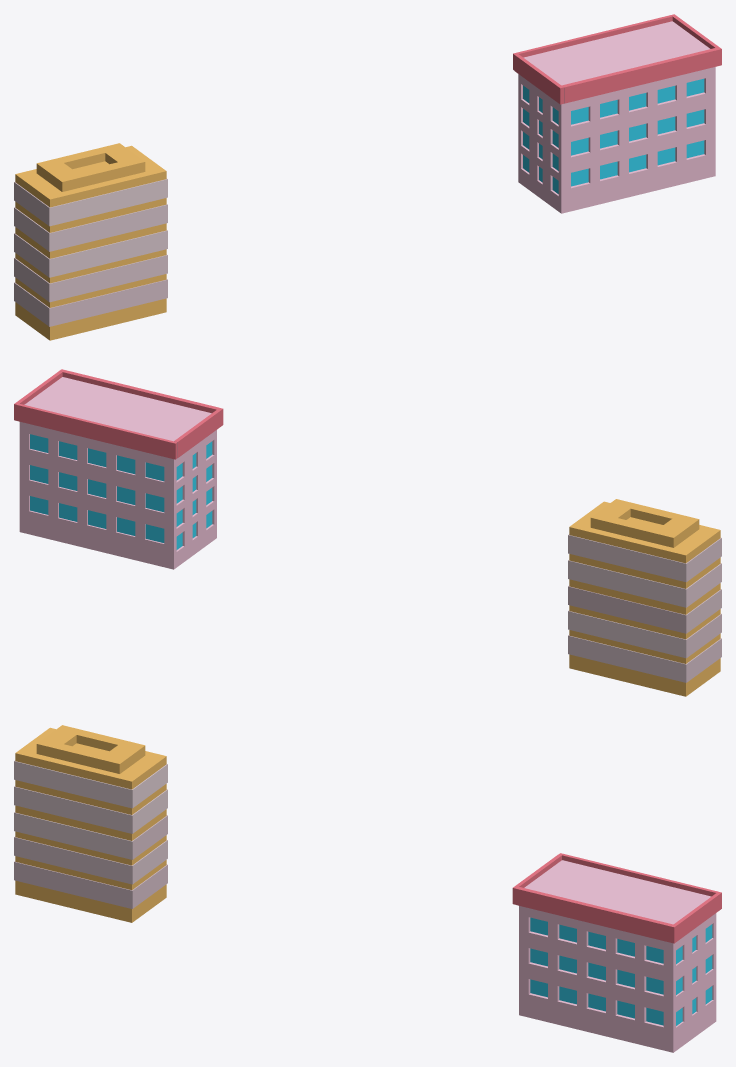
File: buildingssss.fbx
3 renders of one model, top to bottom at view 1: azimuth 30°, elevation 25°; view 2: azimuth 150°, elevation 25°; view 3: azimuth 330°, elevation 25°, orthographic.
Parts seen in each view (by area): view 1: Cube, Cube.044, Cube.022, Cube.028, Cube.027, Cube.032, Cube.043, Cube.036, Cube.039, Cube.035, Cube.040, Cube.031 (+1 smaller); view 2: Cube, Cube.044, Cube.022, Cube.030, Cube.038, Cube.024, Cube.041, Cube.034, Cube.035, Cube.039, Cube.031, Cube.023 (+1 smaller); view 3: Cube, Cube.044, Cube.022, Cube.028, Cube.036, Cube.032, Cube.043, Cube.027, Cube.033, Cube.029, Cube.026, Cube.037 (+1 smaller).
Part boxes in pixels (bbox=[...]): Cube: bbox=[513, 14, 721, 213]; Cube.044: bbox=[15, 145, 166, 340]; Cube.022: bbox=[36, 143, 145, 191]; Cube.028: bbox=[48, 254, 167, 302]; Cube.027: bbox=[48, 279, 167, 326]; Cube.032: bbox=[48, 230, 167, 277]; Cube.043: bbox=[48, 178, 167, 226]; Cube.036: bbox=[48, 204, 167, 251]; Cube.039: bbox=[14, 207, 57, 251]; Cube.035: bbox=[14, 233, 57, 277]; Cube.040: bbox=[14, 182, 57, 226]; Cube.031: bbox=[14, 258, 57, 301]; Cube: bbox=[14, 369, 223, 569]; Cube.044: bbox=[569, 501, 720, 696]; Cube.022: bbox=[590, 499, 699, 547]; Cube.030: bbox=[568, 610, 687, 658]; Cube.038: bbox=[568, 560, 686, 607]; Cube.024: bbox=[568, 635, 687, 682]; Cube.041: bbox=[568, 534, 687, 581]; Cube.034: bbox=[568, 586, 686, 633]; Cube.035: bbox=[678, 589, 721, 633]; Cube.039: bbox=[678, 563, 721, 607]; Cube.031: bbox=[678, 614, 721, 657]; Cube.023: bbox=[678, 638, 721, 682]; Cube: bbox=[512, 853, 721, 1052]; Cube.044: bbox=[15, 727, 166, 922]; Cube.022: bbox=[36, 725, 145, 773]; Cube.028: bbox=[14, 837, 133, 884]; Cube.036: bbox=[14, 786, 133, 833]; Cube.032: bbox=[14, 812, 133, 859]; Cube.043: bbox=[14, 761, 133, 808]; Cube.027: bbox=[14, 862, 133, 908]; Cube.033: bbox=[124, 816, 167, 859]; Cube.029: bbox=[126, 840, 167, 884]; Cube.026: bbox=[132, 864, 167, 908]; Cube.037: bbox=[132, 790, 167, 833].
Bounding box in the file's own units: 979 × 212 × 121.
